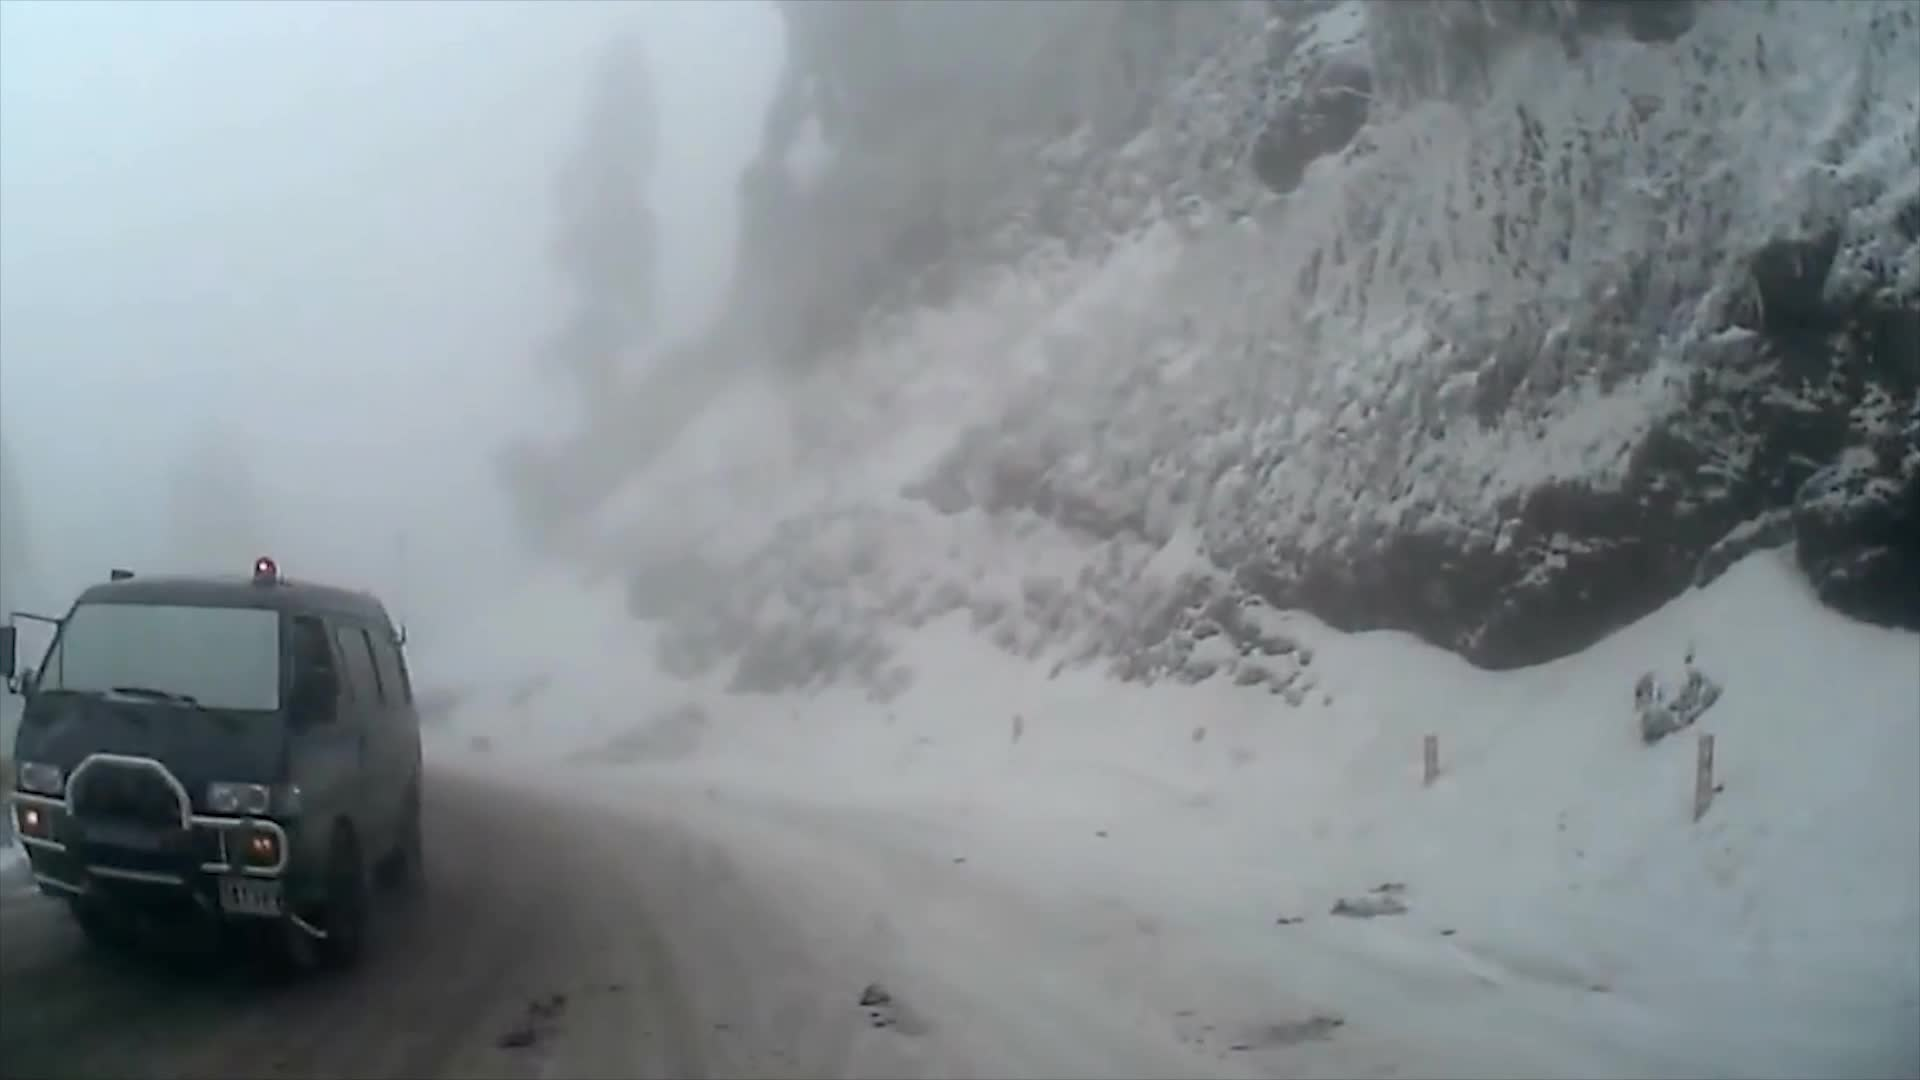vehicle: (0, 553, 425, 976)
